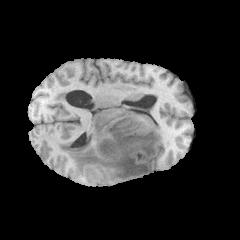glioma: (58, 106, 162, 181)
